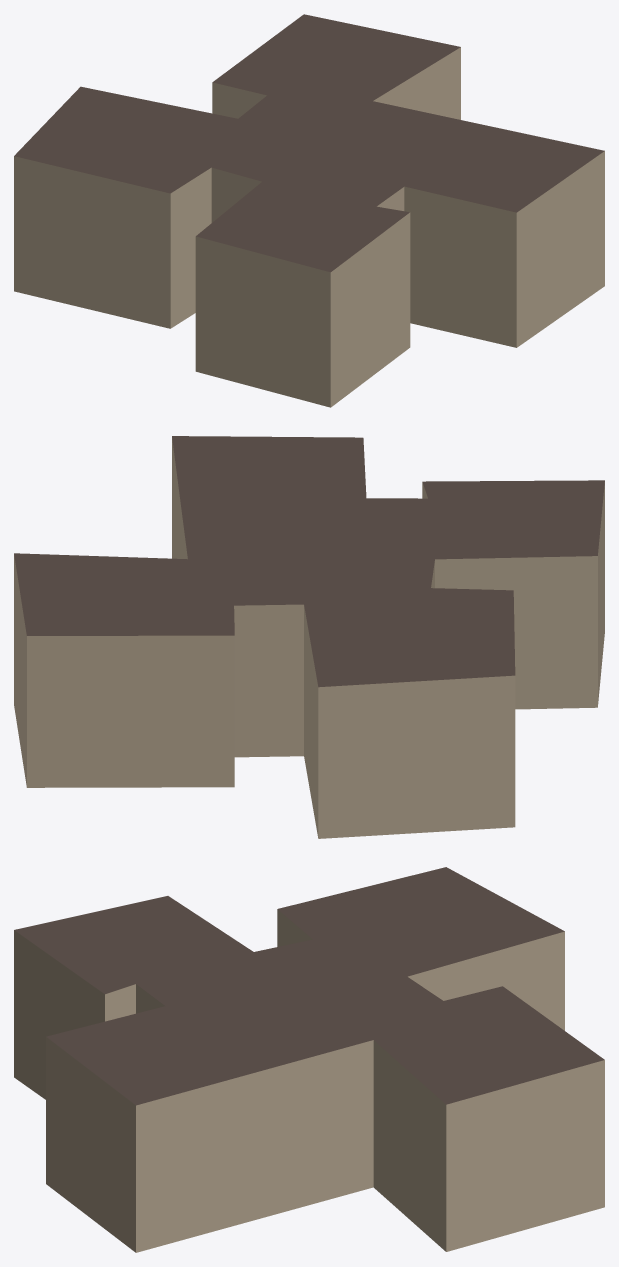
3 renders of one model, top to bottom at view 1: azimuth 30°, elevation 25°; view 2: azimuth 150°, elevation 25°; view 3: azimuth 270°, elevation 25°, orthographic. The views are drawn at different scales.
Parts seen in each view (by area): view 1: HP-w1515071114; view 2: HP-w1515071114; view 3: HP-w1515071114.
Part boxes in pixels (x1,y1,x2,y2): HP-w1515071114: [14, 14, 604, 407]; HP-w1515071114: [14, 436, 604, 838]; HP-w1515071114: [14, 867, 604, 1252].
Bounding box in the file's own units: 31.22 × 9 × 32.7.
